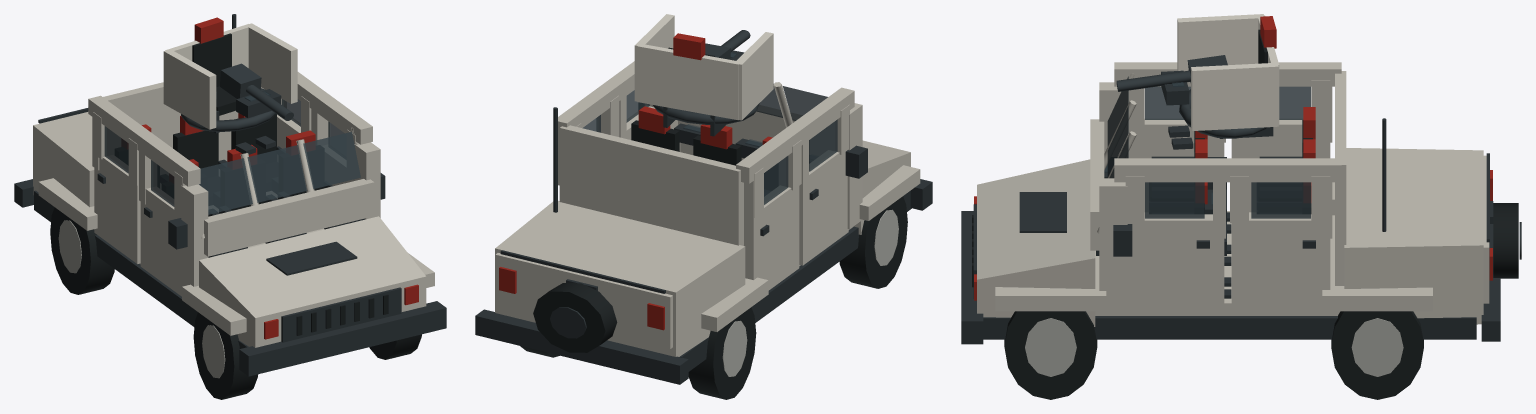
3 renders of one model, left to right at view 1: azimuth 30°, elevation 25°; view 2: azimuth 150°, elevation 25°; view 3: azimuth 270°, elevation 25°, orthographic. The views are drawn at different scales.
Parts seen in each view (by area): view 1: humvee-painted, humvee-glazing, turret-fleet-armor, crew-chair-gunner-painted, wheel--1--1.93-fleet-rubber, wheel--1-1.52-fleet-rubber, crew-chair-passenger-painted, crew-chair-front-center-painted, crew-chair-rear-center-painted, breakaway-2-painted, barrel-fleet-machine, crew-chair-rear-right-painted (+7 smaller); view 2: humvee-painted, turret-fleet-armor, humvee-glazing, wheel--1--1.93-fleet-rubber, wheel--1-1.52-fleet-rubber, crew-chair-passenger-painted, breakaway-1-painted, crew-chair-front-center-painted, breakaway-2-painted, crew-chair-gunner-painted, wheel--1-1.52-fleet-edge, wheel--1--1.93-fleet-edge (+3 smaller); view 3: humvee-painted, turret-fleet-armor, humvee-glazing, wheel-1--1.93-fleet-rubber, wheel-1-1.52-fleet-rubber, wheel-1-1.52-fleet-edge, wheel-1--1.93-fleet-edge, crew-chair-gunner-painted, crew-chair-rear-left-painted, crew-chair-rear-center-painted, barrel-fleet-machine, crew-chair-front-center-painted (+3 smaller).
Boxes of the visible parts, x1,y1,x2,y2 form: humvee-painted: (14, 14, 446, 376); humvee-glazing: (104, 99, 360, 214); turret-fleet-armor: (163, 23, 297, 129); crew-chair-gunner-painted: (192, 17, 281, 154); wheel--1--1.93-fleet-rubber: (50, 207, 114, 294); wheel--1-1.52-fleet-rubber: (193, 312, 258, 399); crew-chair-passenger-painted: (277, 130, 364, 229); crew-chair-front-center-painted: (219, 144, 306, 243); crew-chair-rear-center-painted: (173, 116, 227, 207); breakaway-2-painted: (182, 284, 246, 335); barrel-fleet-machine: (220, 63, 293, 120); crew-chair-rear-right-painted: (231, 113, 285, 193); humvee-painted: (475, 61, 932, 384); turret-fleet-armor: (634, 14, 773, 120); humvee-glazing: (582, 84, 837, 204); wheel--1--1.93-fleet-rubber: (688, 307, 756, 399); wheel--1-1.52-fleet-rubber: (839, 196, 907, 288); crew-chair-passenger-painted: (631, 106, 700, 151); breakaway-1-painted: (701, 277, 768, 331); crew-chair-front-center-painted: (693, 124, 761, 165); breakaway-2-painted: (859, 165, 920, 220); crew-chair-gunner-painted: (663, 33, 744, 136); wheel--1-1.52-fleet-edge: (874, 209, 898, 265); wheel--1--1.93-fleet-edge: (722, 320, 747, 376); humvee-painted: (961, 62, 1521, 344); turret-fleet-armor: (1177, 14, 1279, 130); humvee-glazing: (1107, 76, 1310, 218); wheel-1--1.93-fleet-rubber: (1331, 311, 1423, 399); wheel-1-1.52-fleet-rubber: (1004, 311, 1097, 399); wheel-1-1.52-fleet-edge: (1025, 318, 1076, 376); wheel-1--1.93-fleet-edge: (1351, 318, 1403, 376); crew-chair-gunner-painted: (1161, 16, 1276, 149); crew-chair-rear-left-painted: (1207, 107, 1315, 233); crew-chair-rear-center-painted: (1205, 139, 1315, 265); barrel-fleet-machine: (1116, 55, 1227, 91); crew-chair-front-center-painted: (1149, 139, 1207, 213).
Size of the model in its own units: 15.22 by 19.71 by 31.05.
